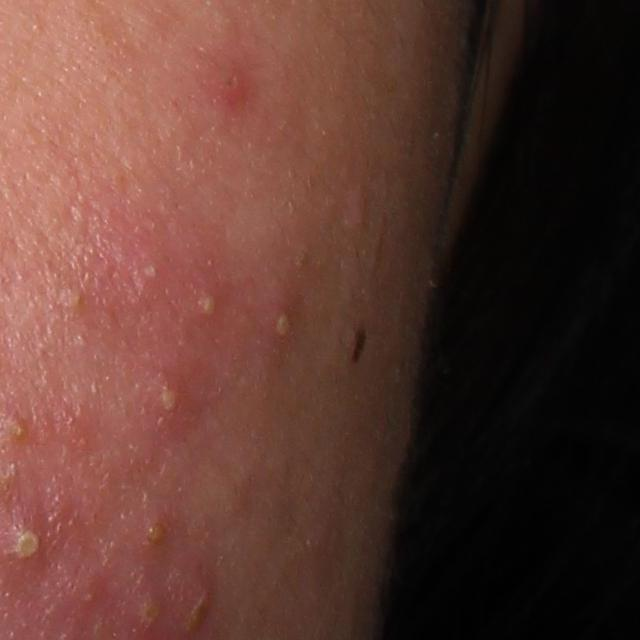nevus: (349, 325, 369, 367)
papule: (197, 56, 254, 110), (58, 566, 110, 618)
pustule: (125, 362, 191, 433), (2, 513, 57, 574), (123, 583, 171, 637), (123, 246, 170, 297), (129, 513, 174, 560), (268, 303, 296, 344)
